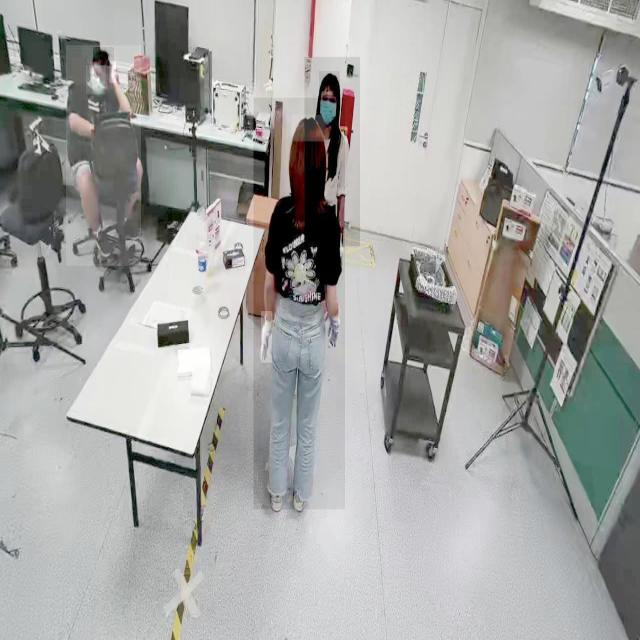face_mask: (86, 65, 106, 95), (320, 95, 336, 124)
hand_glove: (326, 308, 342, 356), (261, 311, 273, 364)
hand_noglove: (110, 62, 116, 84)
head_nohelmet: (291, 115, 325, 142), (319, 71, 341, 93), (93, 47, 115, 67)
person: (254, 98, 346, 510), (66, 45, 142, 267), (304, 57, 360, 247)
shoes: (266, 463, 286, 517), (91, 219, 115, 264), (290, 472, 310, 520)
